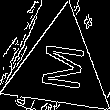M_W: (33, 42, 86, 94)
